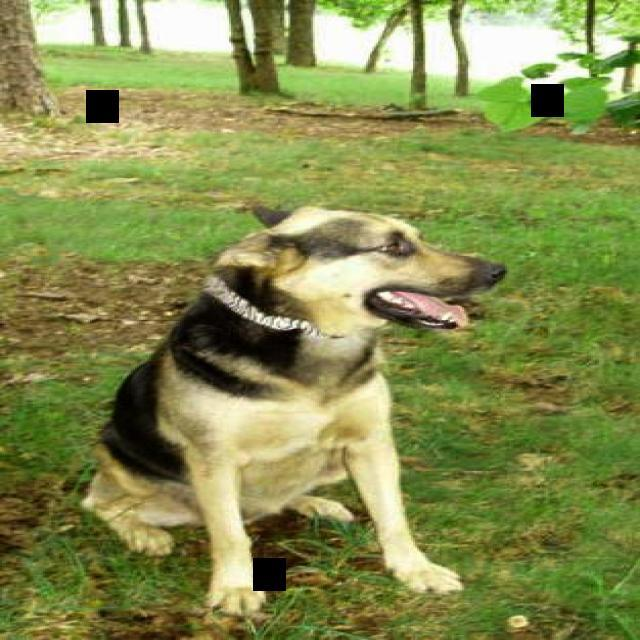adult_dog: (86, 203, 510, 623)
